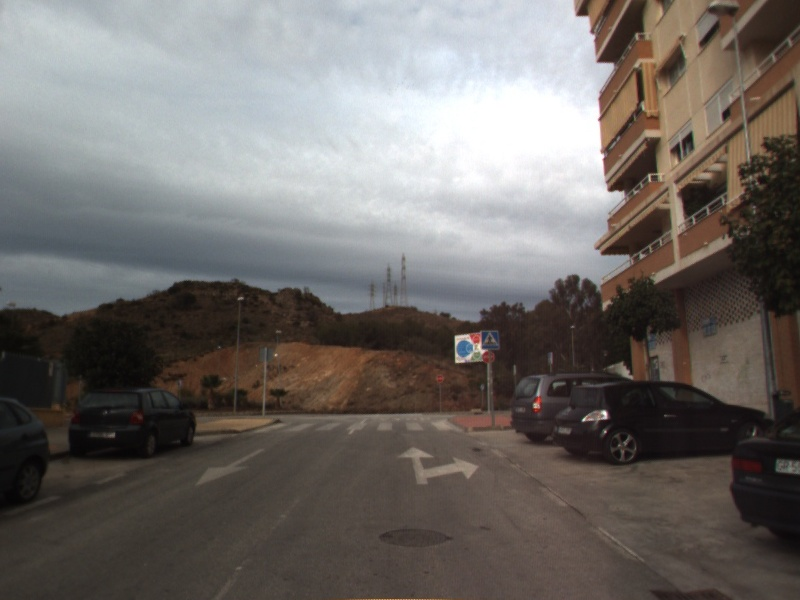STRAIGHT_RIGHT: (396, 444, 481, 486)
